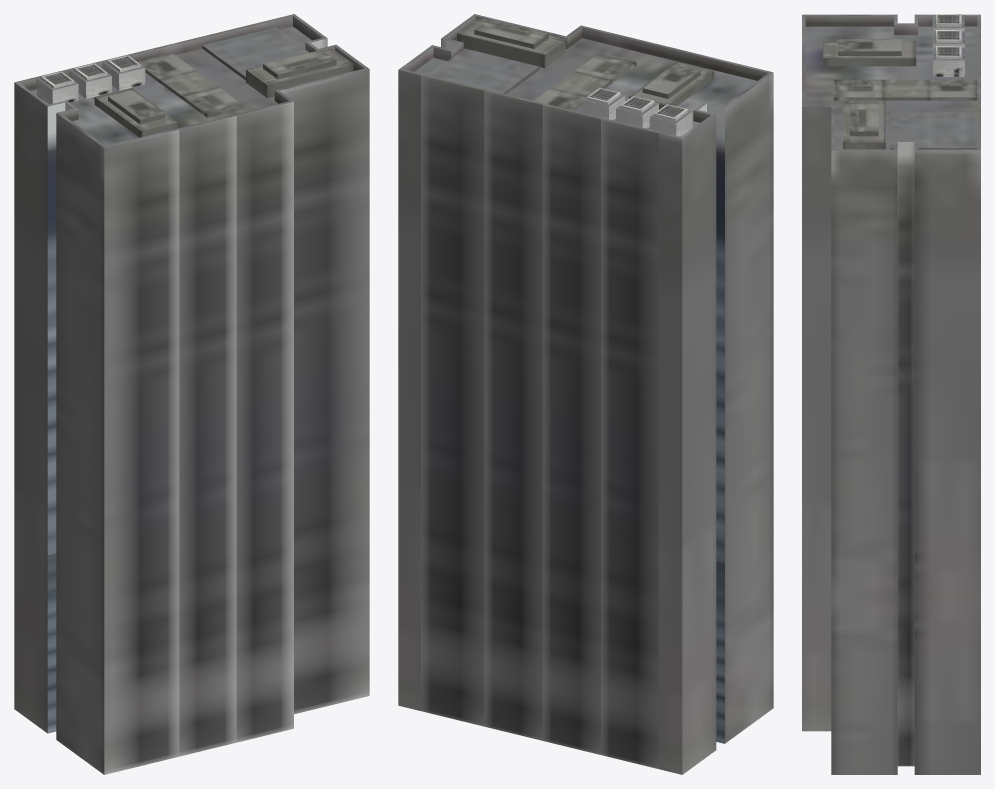
The picture shows the model from 3 angles, left to right: view 1: azimuth 30°, elevation 25°; view 2: azimuth 150°, elevation 25°; view 3: azimuth 270°, elevation 25°; orthographic projection.
Size of the model in its own units: 0.3902 by 0.8465 by 0.2168.
Materials: 1 (1 with a texture image).
